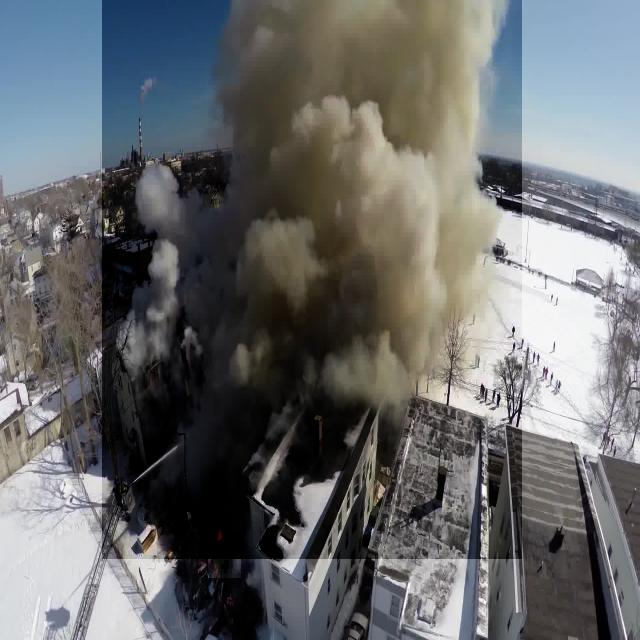Fire: (208, 506, 241, 578)
Smoke: (102, 0, 522, 559)
